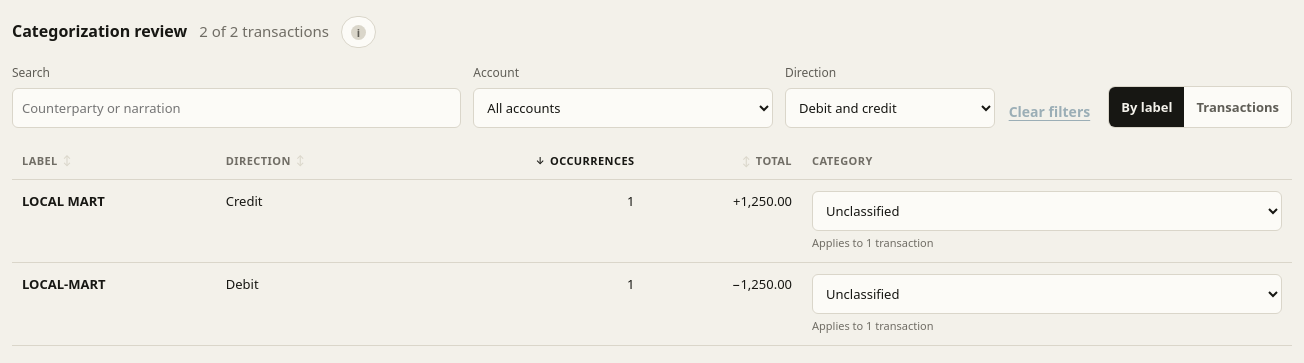
Scenario: review center › filters before grouping and paging, combines filters, and clears them
Type "local, mart" into the search field labelled "Search".
click(237, 108); type("local, mart")  # box [12,88,461,128]
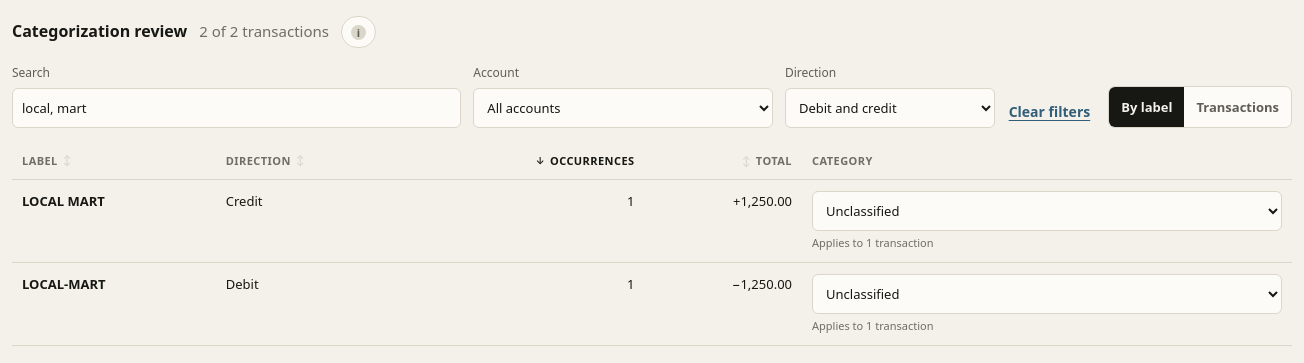
Select "ICICI Bank 7654" in the dropdown labelled "Account" at (623,108), box [473,88,773,128]
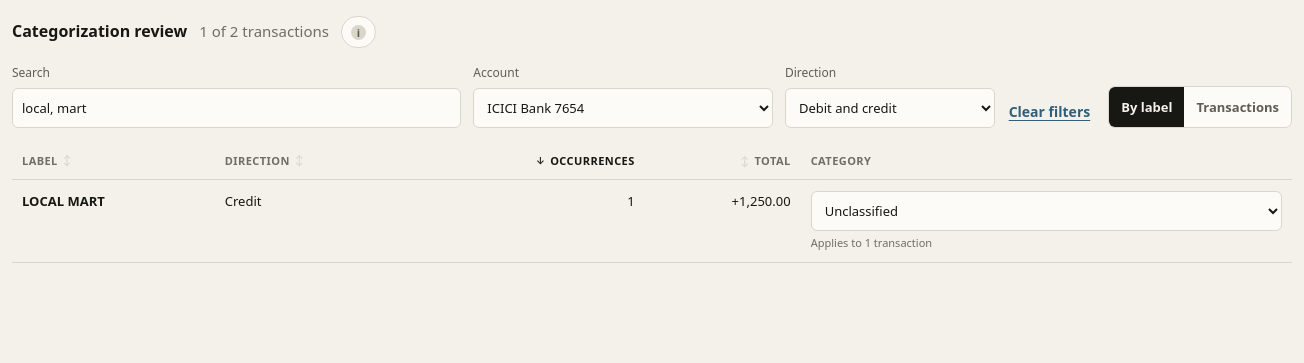
Select "Debit" in the dropdown labelled "Direction" at (890,108), box [785,88,995,128]
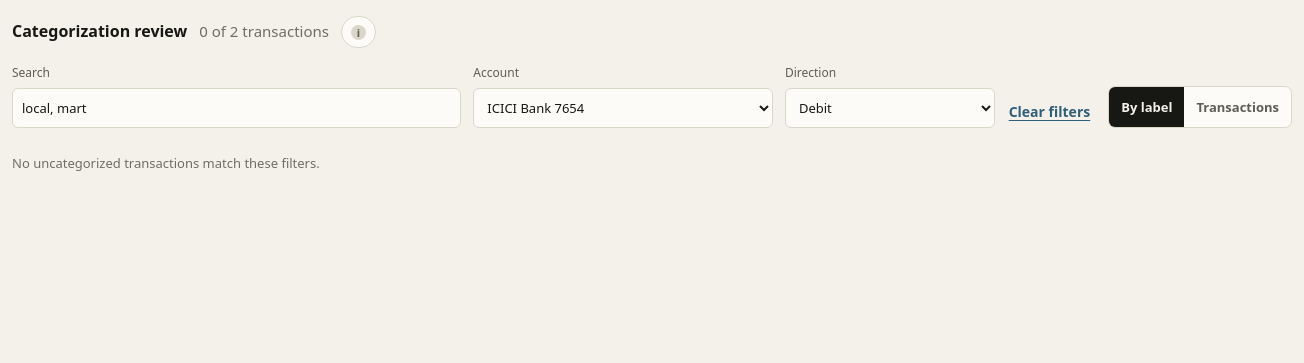
expect the text "0 of 2 transactions" is shown: met, box [199,20,329,43]
expect the text "No uncategorized transactions match these filters." is shown: met, box [12,154,320,172]
Select "Credit" in the dropdown labelled "Direction" at (890,108), box [785,88,995,128]
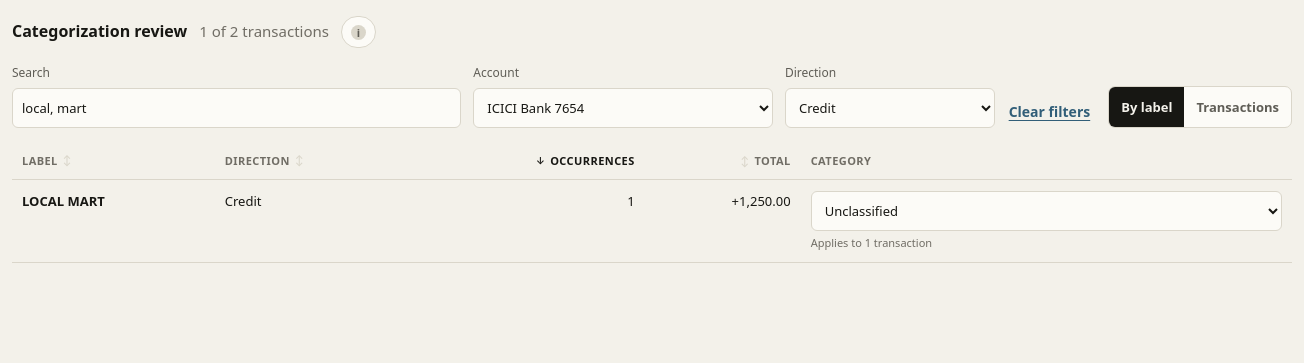
expect the text "1 of 2 transactions" is shown: met, box [199,20,329,43]
expect the text "LOCAL MART" is shown: met, box [22,192,105,210]
Click the button "Clear filters".
click(1049, 112)  # box [1007,96,1092,128]
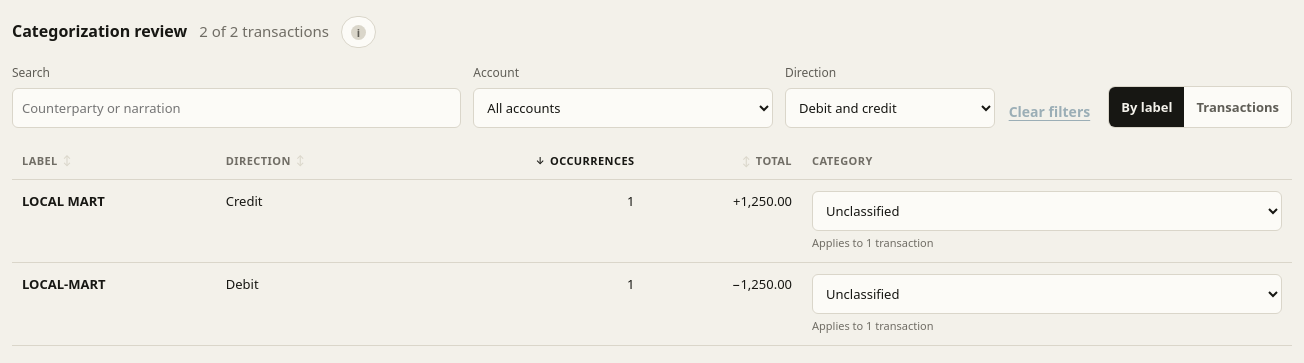
expect the text "2 of 2 transactions" is shown: met, box [199,20,329,43]
